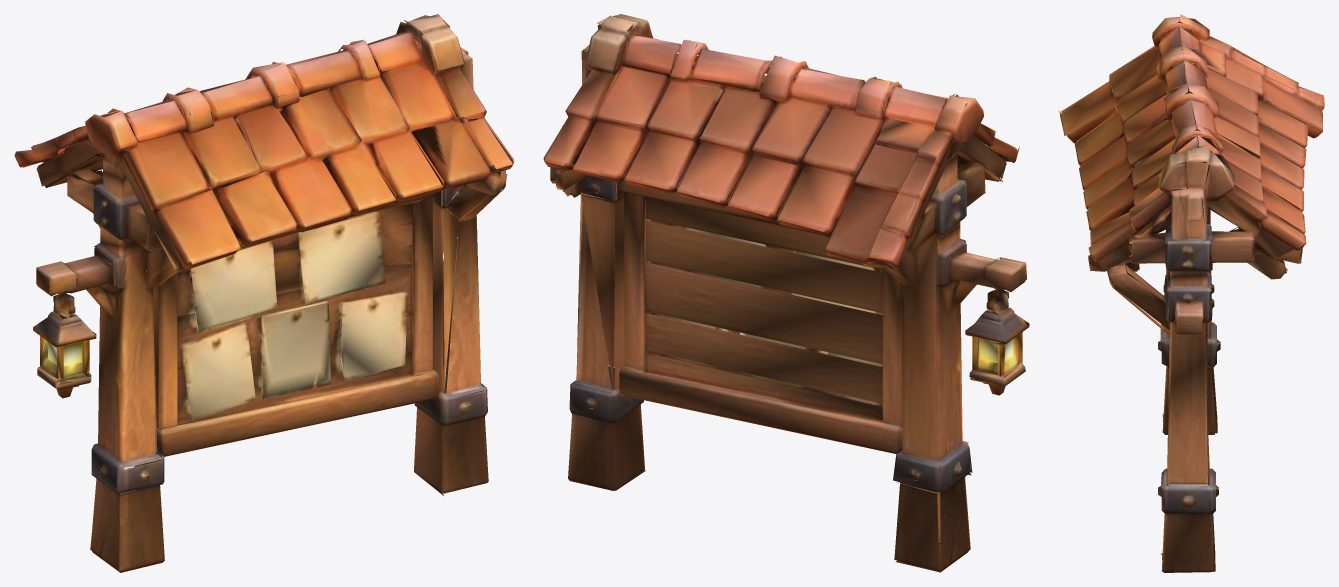
Rendered from board.glb.
3 renders of one model, left to right at view 1: azimuth 30°, elevation 25°; view 2: azimuth 150°, elevation 25°; view 3: azimuth 270°, elevation 25°, orthographic. The views are drawn at different scales.
Parts seen in each view (by area): view 1: board; view 2: board; view 3: board.
Part boxes in pixels (x1,y1,x2,y2): board: (14,14,514,572); board: (543,14,1029,572); board: (1058,14,1324,572).
Bounding box in the file's own units: 2.3 × 2.21 × 1.32.
Materials: 1 (1 with a texture image).
